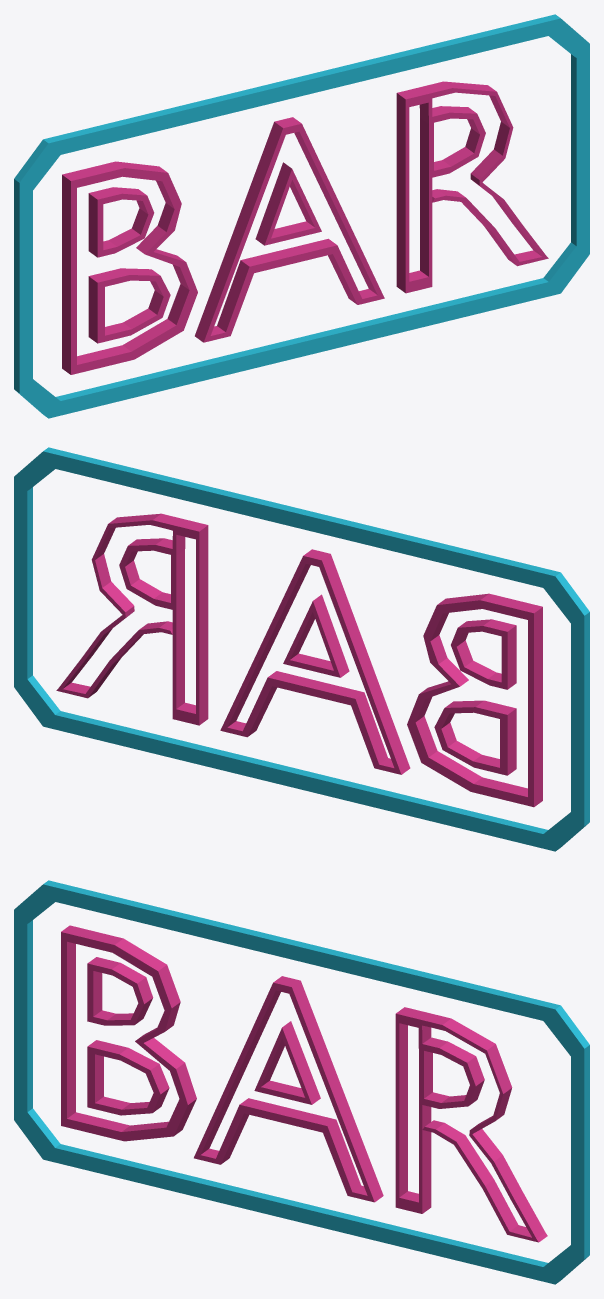
File: Aracde_Neon_Bar.fbx
3 views of the same model, one above another, from view 1: azimuth 30°, elevation 25°; view 2: azimuth 150°, elevation 25°; view 3: azimuth 330°, elevation 25° (orthographic).
Parts seen in each view (by area): view 1: Text; view 2: Text; view 3: Text.
Boxes of the visible parts, box(x1,y1,x2,y2) form: Text: box(14, 14, 589, 418); Text: box(14, 447, 589, 851); Text: box(14, 880, 589, 1284).
Size of the model in its own units: 210 by 96.77 by 5.73.
